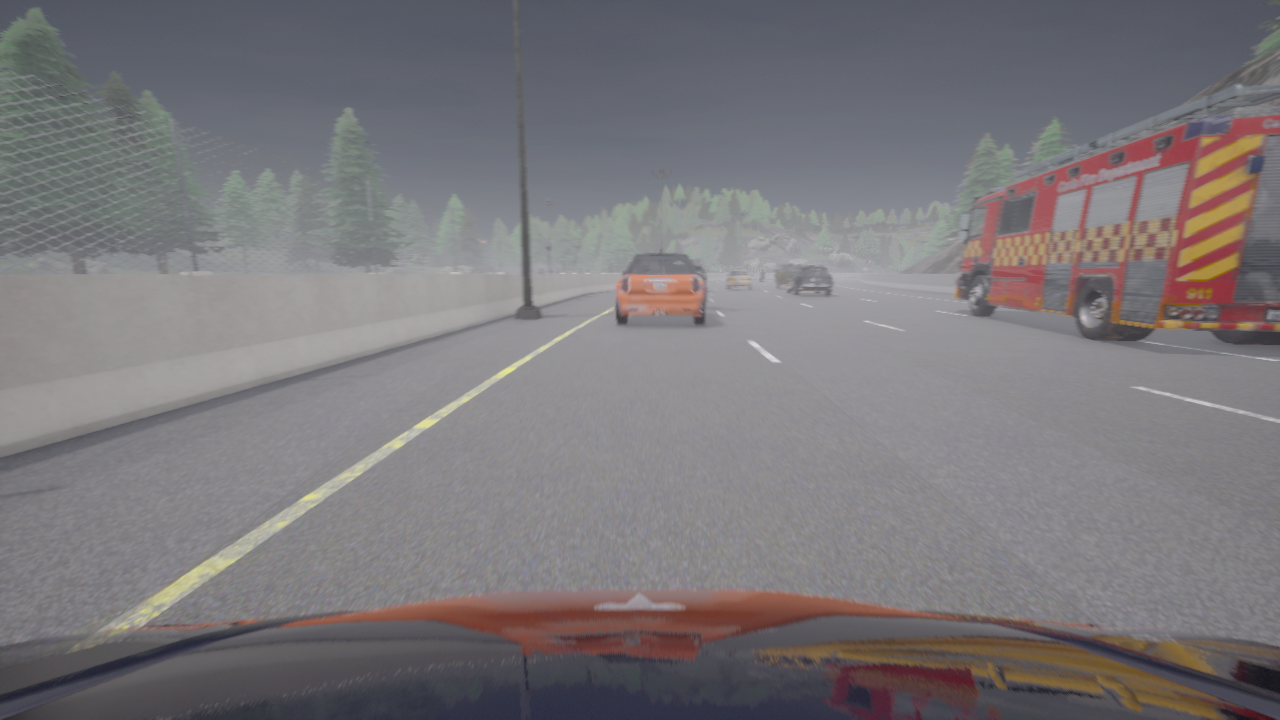cyclist: (0, 588, 1279, 719), (954, 84, 1279, 345), (615, 248, 706, 324), (786, 265, 832, 295), (775, 263, 801, 288), (727, 268, 752, 289), (690, 259, 707, 288), (760, 274, 763, 281)
